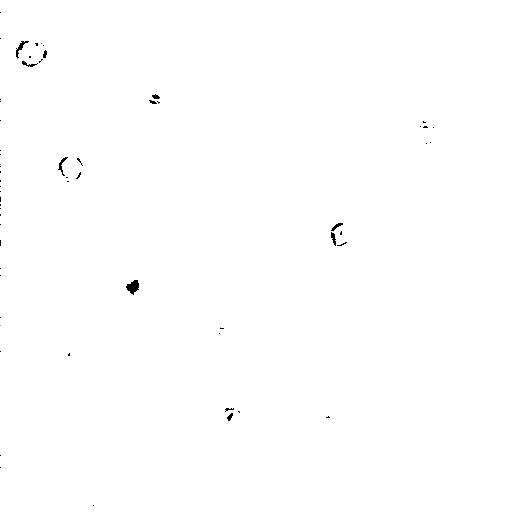micro-algae: (104, 257, 161, 316), (189, 1, 237, 38), (13, 35, 47, 66), (411, 119, 441, 142), (329, 222, 355, 248), (58, 154, 83, 181), (51, 341, 75, 367), (499, 116, 511, 157), (223, 407, 243, 430)
